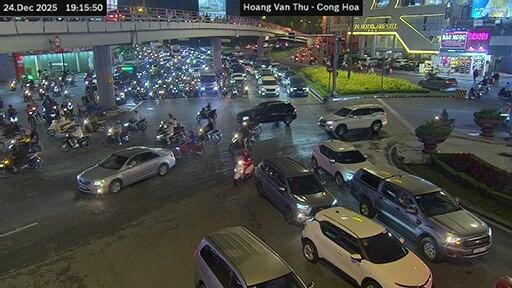motorbike: (6, 135, 41, 153), (57, 134, 89, 151), (233, 158, 253, 184), (227, 133, 253, 153), (176, 140, 204, 157), (16, 152, 41, 171), (47, 118, 74, 135), (156, 130, 184, 145), (154, 121, 169, 144), (496, 103, 511, 126), (169, 122, 185, 143), (198, 127, 220, 142), (83, 117, 105, 131), (124, 117, 147, 130), (42, 106, 58, 124), (432, 113, 454, 126), (102, 127, 118, 144), (197, 108, 216, 120), (86, 103, 105, 115), (246, 121, 261, 135), (467, 86, 482, 99), (25, 108, 35, 127), (0, 157, 13, 171), (60, 102, 72, 117), (498, 86, 511, 99), (7, 112, 18, 127), (476, 82, 489, 94), (118, 131, 130, 143), (22, 89, 32, 100), (115, 91, 124, 103), (64, 73, 73, 85), (51, 86, 60, 97), (38, 85, 45, 99), (0, 109, 5, 126), (9, 79, 16, 90), (309, 55, 316, 63), (63, 89, 69, 97)
